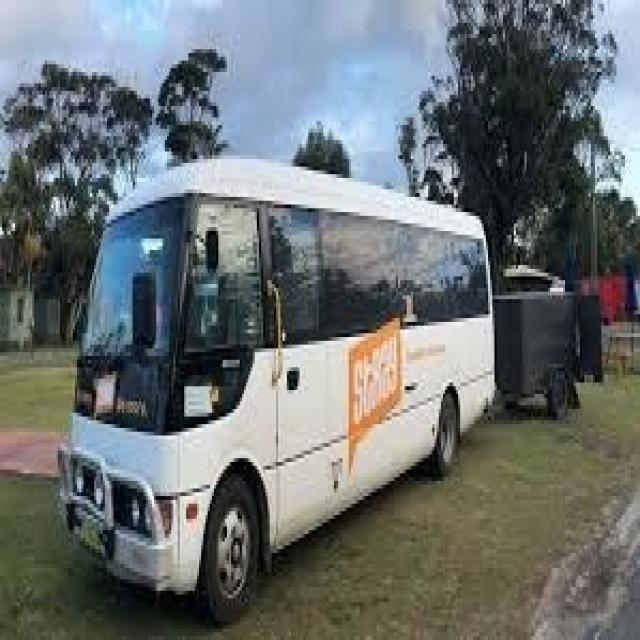bus: (60, 143, 503, 640)
